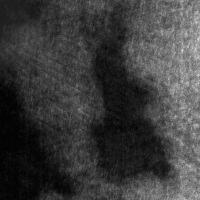patches: (89, 26, 170, 181), (1, 73, 54, 200), (0, 0, 49, 73), (1, 1, 46, 34)
